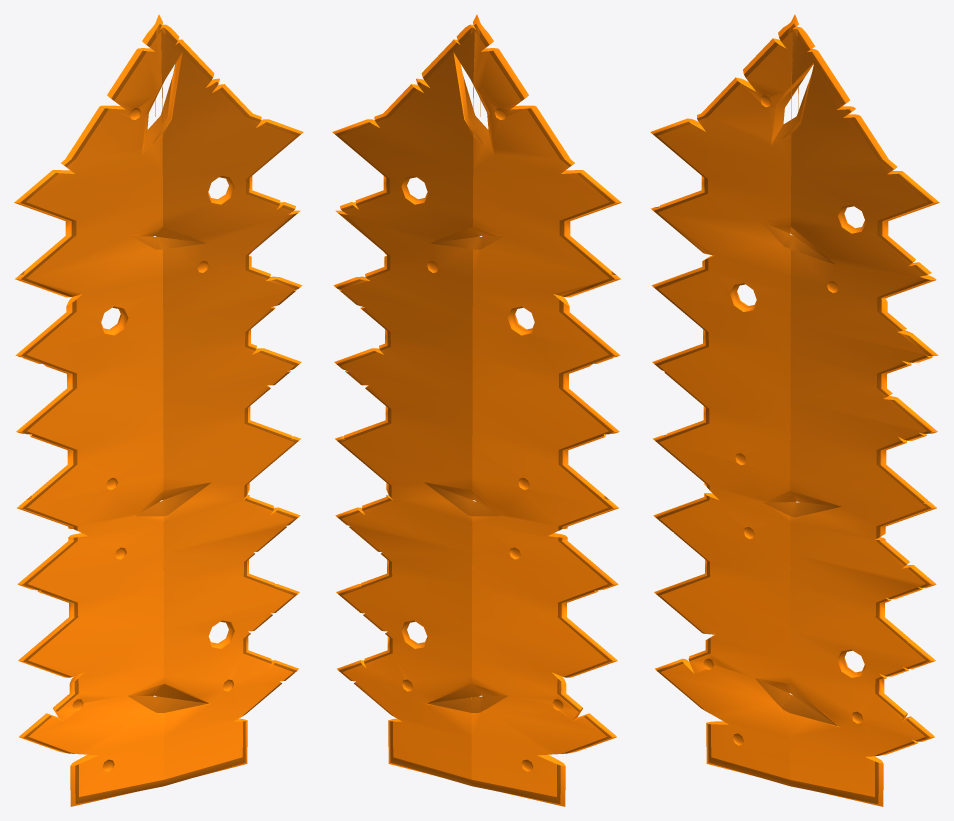
File: bronze_blade_bubbles_030.glb
The picture shows the model from 3 angles, left to right: view 1: azimuth 30°, elevation 25°; view 2: azimuth 150°, elevation 25°; view 3: azimuth 330°, elevation 25°; orthographic projection.
Parts seen in each view (by area): view 1: bronze_blade_bubbles.030; view 2: bronze_blade_bubbles.030; view 3: bronze_blade_bubbles.030.
Part boxes in pixels (box(x1,y1,x2,y2)): bronze_blade_bubbles.030: box(14, 14, 303, 806); bronze_blade_bubbles.030: box(332, 14, 621, 806); bronze_blade_bubbles.030: box(650, 14, 939, 806).
Bounding box in the file's own units: 4.48 × 11.41 × 0.2879.
1 material, 1 textured.
